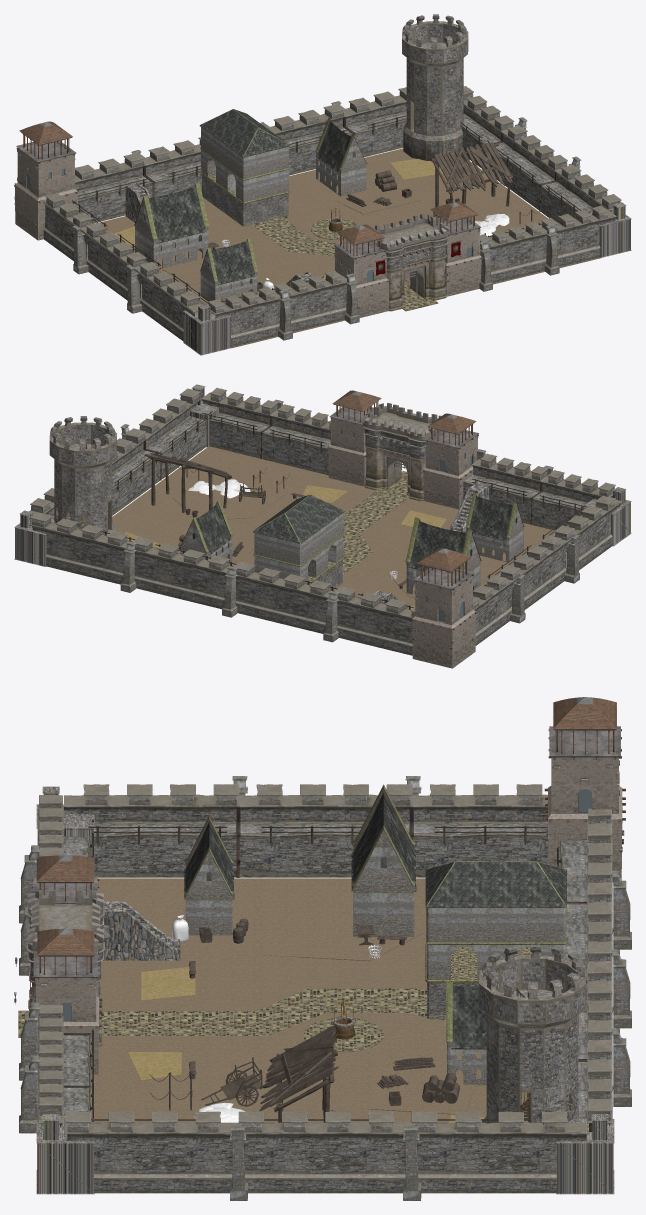
Rendered from medieval_castle_3d_runtime.glb.
The picture shows the model from 3 angles, top to bottom: view 1: azimuth 30°, elevation 25°; view 2: azimuth 150°, elevation 25°; view 3: azimuth 270°, elevation 25°; orthographic projection. The views are drawn at different scales.
Visible parts, largest first — view 1: BRG_CourtyardEarthBase, BRG_Palas_GreatHall_North, BRG_Keep_RearEast, BRG_RearFlankTower_NW, BRG_MainGatehouse, BRG_Kitchen_West, BRG_Wall_North_W1, BRG_GateTower_West, BRG_Wall_East_M, BRG_Wall_North_E2, BRG_GateTower_East, BRG_Wall_South_W2 (+26 smaller); view 2: BRG_CourtyardEarthBase, BRG_RearFlankTower_NW, BRG_Keep_RearEast, BRG_Palas_GreatHall_North, BRG_MainGatehouse, BRG_Wall_North_E1, BRG_Wall_North_W2, BRG_Wall_North_E2, BRG_GateTower_West, BRG_Wall_North_W1, BRG_Wall_South_E1, BRG_Wall_South_E2 (+30 smaller); view 3: BRG_CourtyardEarthBase, BRG_Keep_RearEast, BRG_Palas_GreatHall_North, BRG_Wall_East_M, BRG_Wall_West_S, BRG_Wall_East_N, BRG_Wall_West_M, BRG_Wall_East_S, BRG_RearFlankTower_NW, BRG_Wall_West_N, BRG_MainRoute_Gate_Well_Palas, BRG_Kitchen_West (+35 smaller).
Boxes of the visible parts, x1,y1,x2,y2 form: BRG_CourtyardEarthBase: [99, 148, 601, 347]; BRG_Palas_GreatHall_North: [199, 109, 290, 226]; BRG_Keep_RearEast: [402, 14, 468, 160]; BRG_RearFlankTower_NW: [14, 121, 78, 240]; BRG_MainGatehouse: [371, 213, 448, 311]; BRG_Kitchen_West: [134, 182, 209, 269]; BRG_Wall_North_W1: [75, 152, 155, 222]; BRG_GateTower_West: [333, 224, 389, 317]; BRG_Wall_East_M: [487, 125, 567, 211]; BRG_Wall_North_E2: [344, 87, 406, 157]; BRG_GateTower_East: [430, 201, 482, 296]; BRG_Wall_South_W2: [272, 270, 346, 331]; BRG_CourtyardEarthBase: [112, 446, 555, 606]; BRG_RearFlankTower_NW: [411, 548, 476, 668]; BRG_Keep_RearEast: [49, 416, 116, 535]; BRG_Palas_GreatHall_North: [253, 494, 344, 590]; BRG_MainGatehouse: [362, 403, 441, 501]; BRG_Wall_North_E1: [132, 537, 236, 609]; BRG_Wall_North_W2: [233, 561, 337, 633]; BRG_Wall_North_E2: [29, 512, 134, 584]; BRG_GateTower_West: [422, 413, 478, 509]; BRG_Wall_North_W1: [334, 586, 415, 655]; BRG_Wall_South_E1: [260, 404, 330, 475]; BRG_Wall_South_E2: [201, 387, 277, 459]; BRG_CourtyardEarthBase: [37, 878, 527, 1169]; BRG_Keep_RearEast: [479, 944, 586, 1123]; BRG_Palas_GreatHall_North: [425, 861, 566, 1019]; BRG_Wall_East_M: [237, 1111, 413, 1193]; BRG_Wall_West_S: [64, 784, 240, 877]; BRG_Wall_East_N: [410, 1111, 587, 1193]; BRG_Wall_West_M: [237, 784, 413, 877]; BRG_Wall_East_S: [64, 1111, 240, 1193]; BRG_RearFlankTower_NW: [544, 697, 625, 882]; BRG_Wall_West_N: [411, 784, 548, 877]; BRG_MainRoute_Gate_Well_Palas: [99, 988, 445, 1035]; BRG_Kitchen_West: [351, 784, 416, 936].
Bounding box in the file's own units: 62.11 × 16.04 × 45.79.
Materials: 36 (33 with a texture image).
